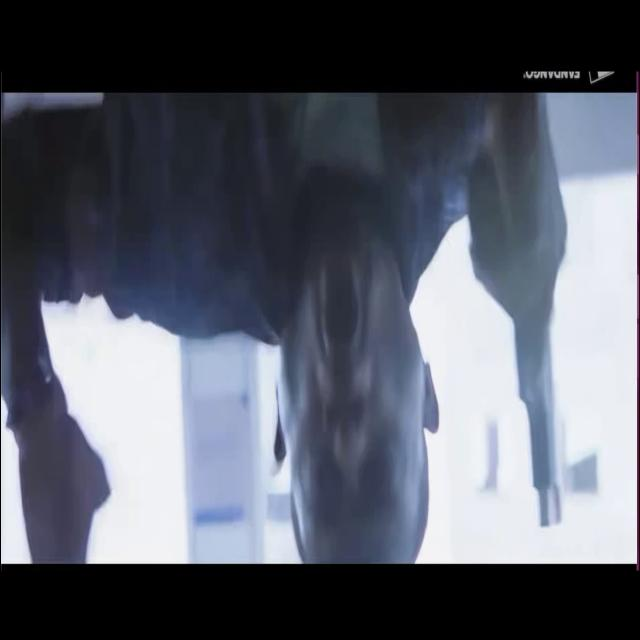weapons: (456, 137, 576, 548)
